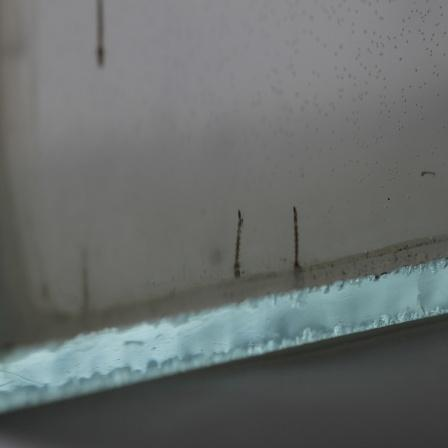Jentik-Nyamuk: (287, 197, 306, 271), (229, 206, 247, 280)
